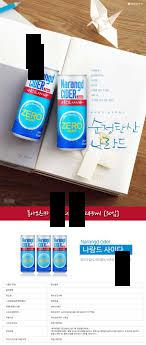narangdcider: (15, 59, 57, 143), (54, 71, 89, 152)
